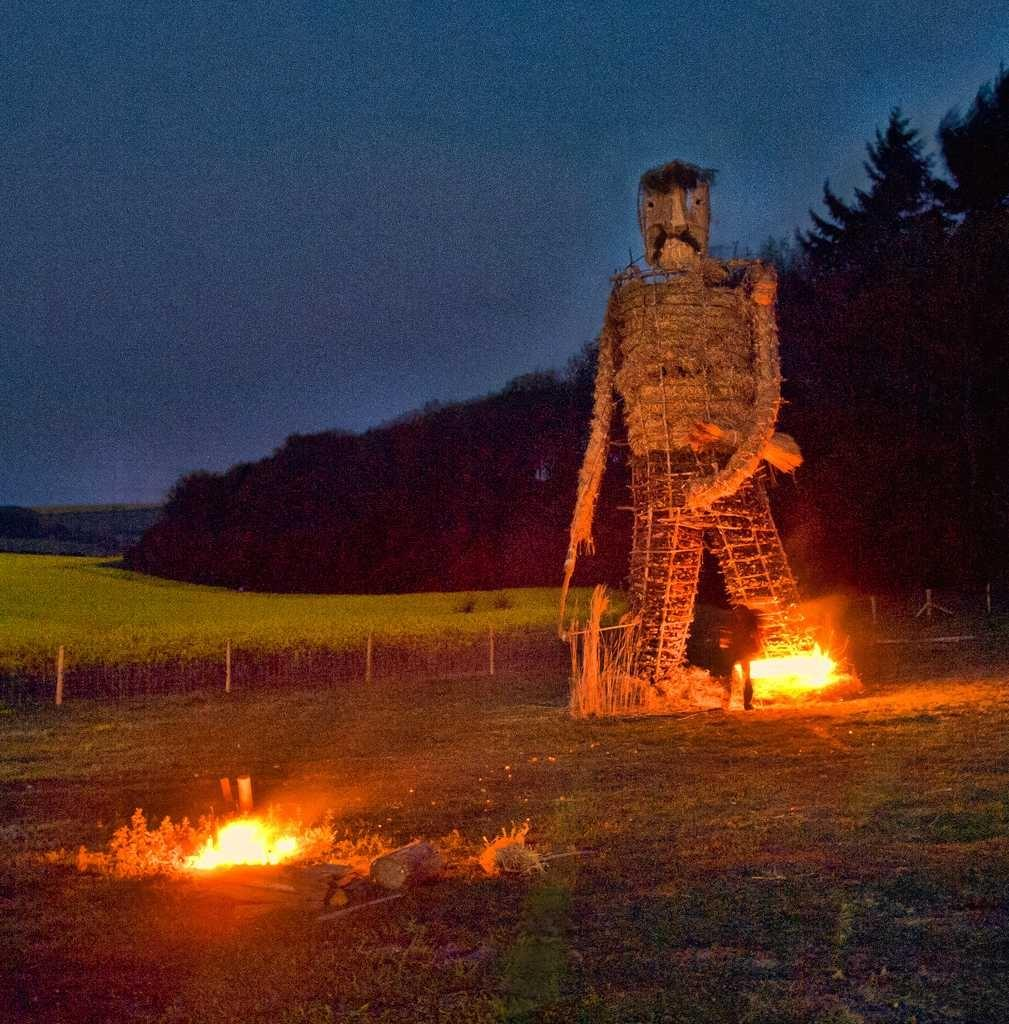fire: (205, 828, 278, 875), (750, 652, 840, 682)
